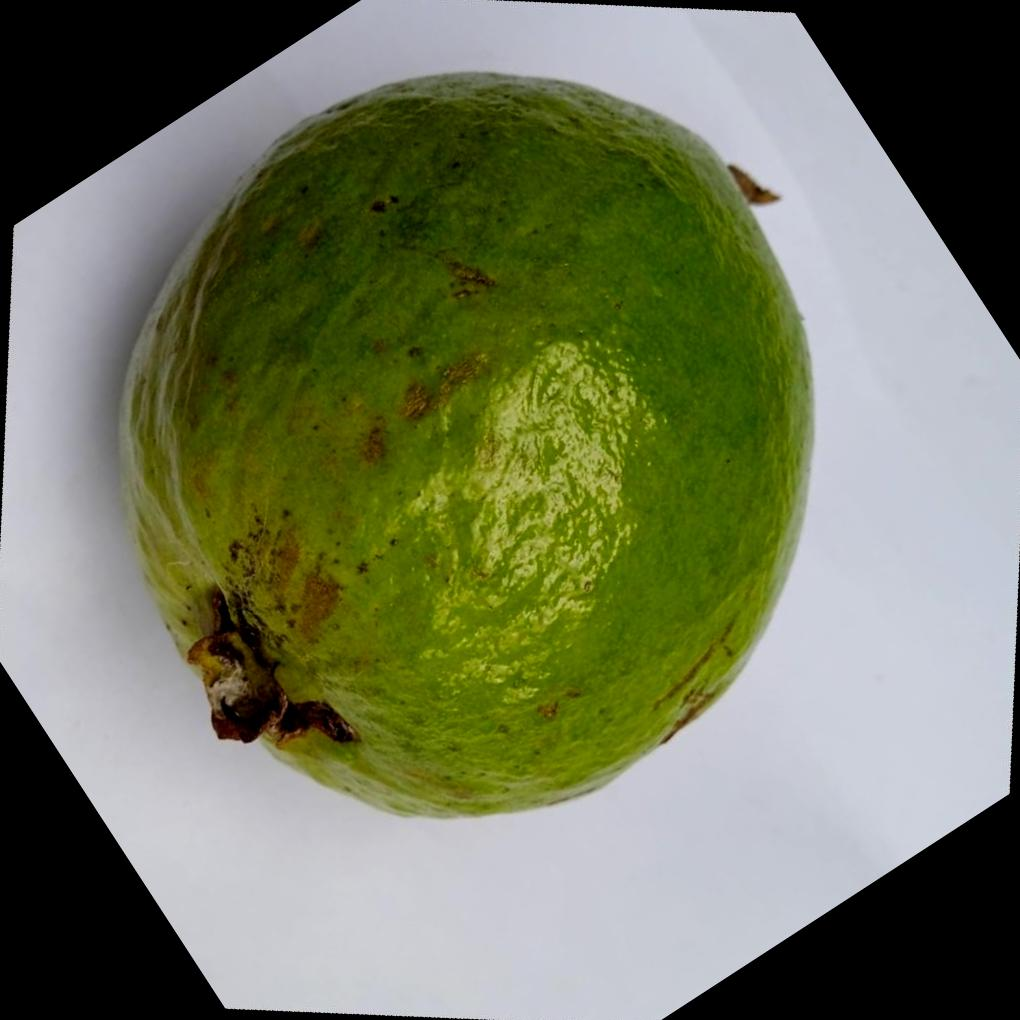FreshGuava: (118, 69, 820, 818)
